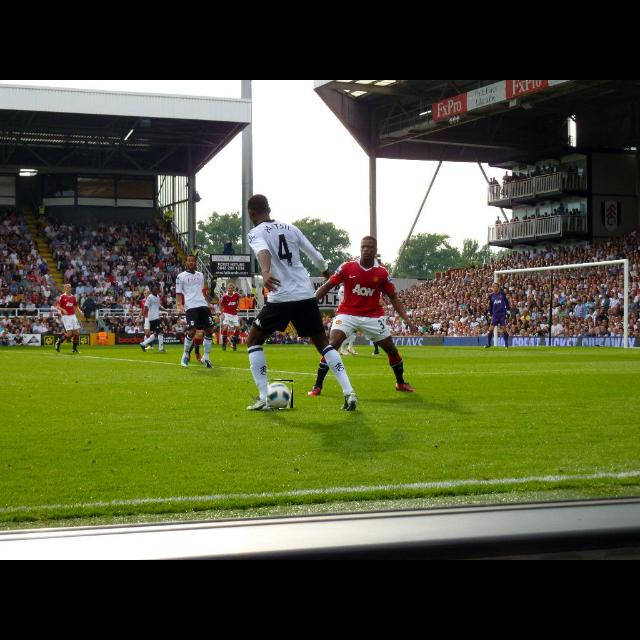Football: (267, 380, 293, 408)
